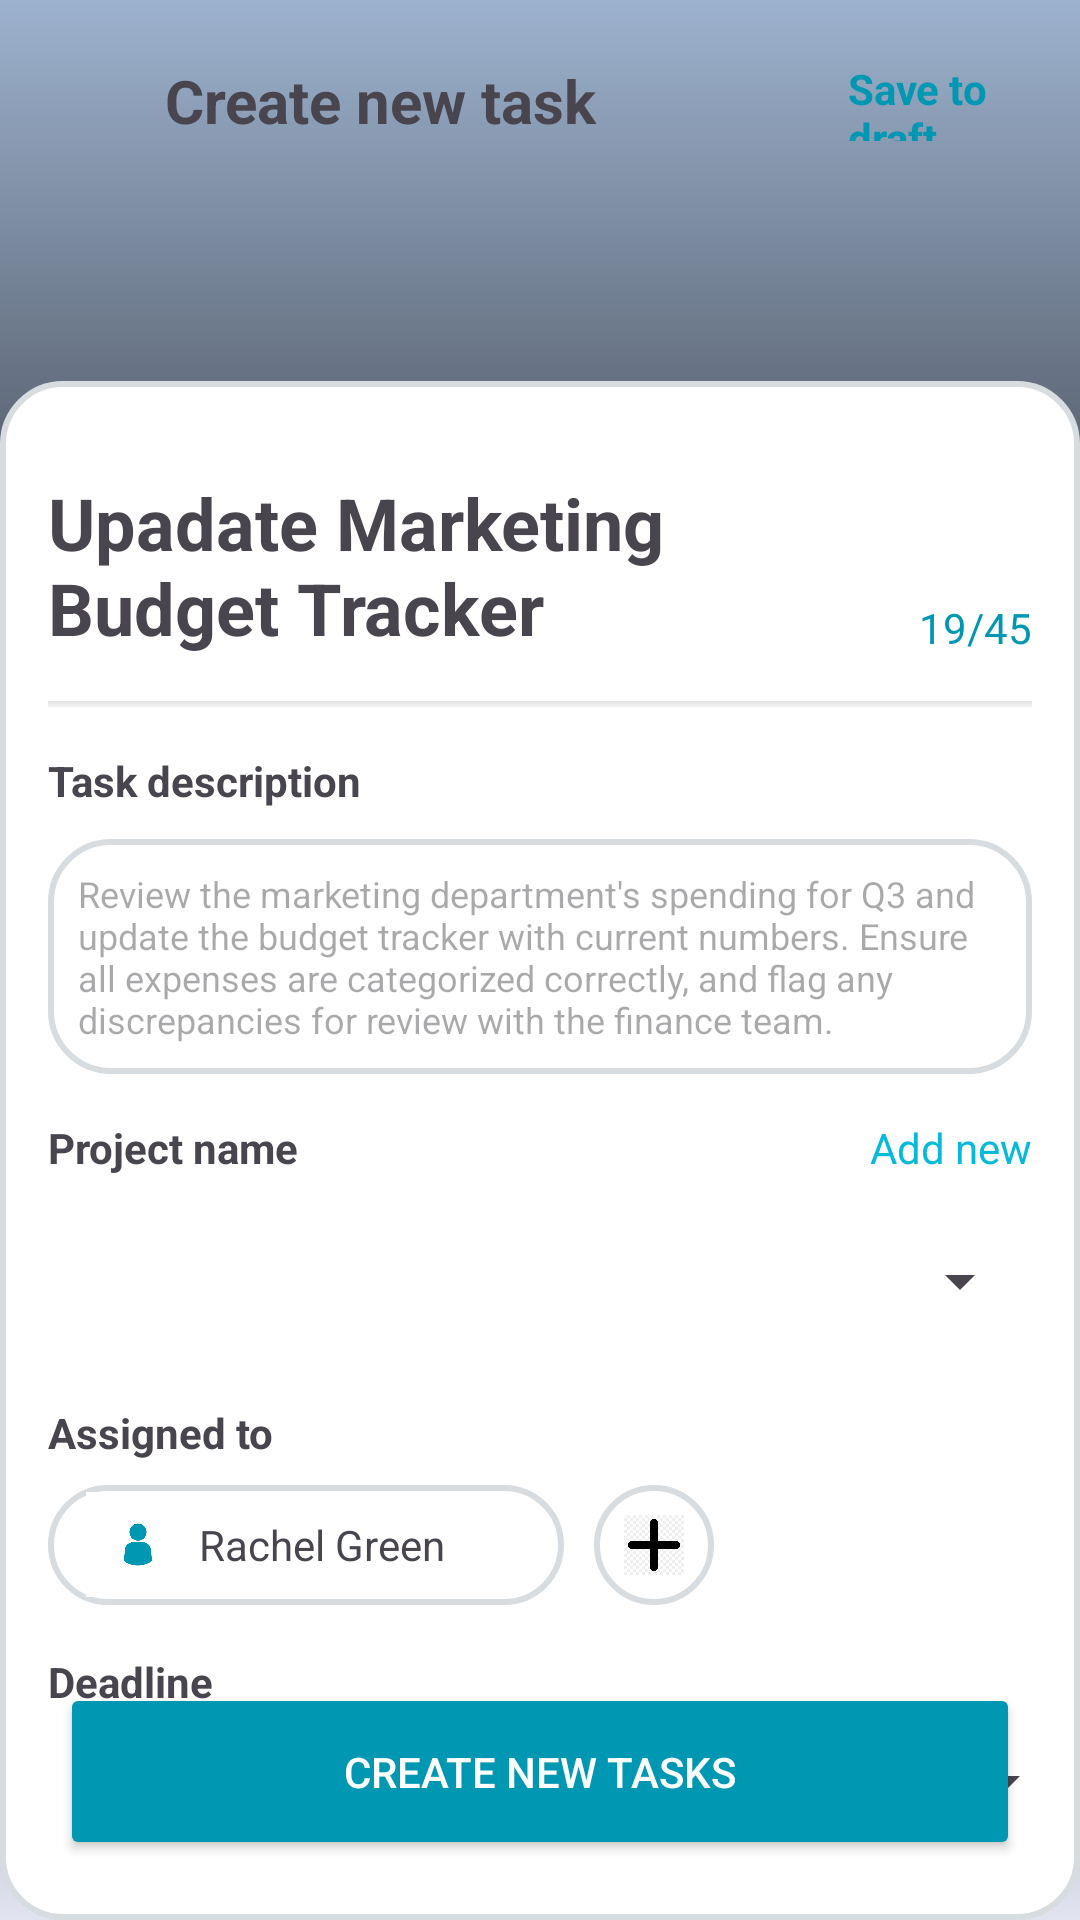

Screen size 1080 x 1920. Icon name, then its center in pixels as [x,y]:
plus: [654,1545]
